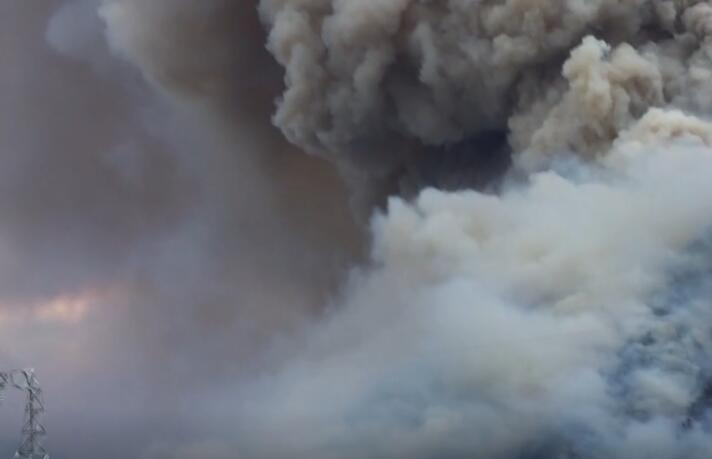smoke: (23, 0, 712, 455)
